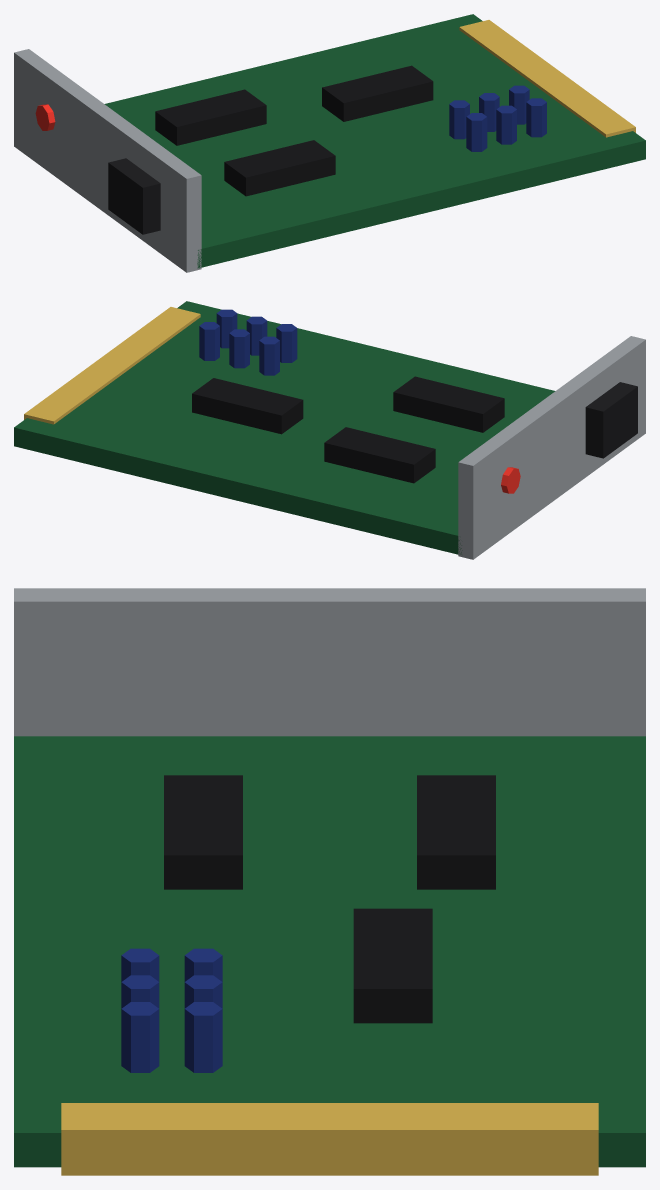
Rendered from kit.line-card.glb.
3 renders of one model, top to bottom at view 1: azimuth 30°, elevation 25°; view 2: azimuth 150°, elevation 25°; view 3: azimuth 270°, elevation 25°, orthographic. The views are drawn at different scales.
Visible parts, largest first — view 1: pcb, faceplate, edge, chip0, chip1, chip2, pull, cap0, cap1, cap2, cap3, cap5 (+2 smaller); view 2: pcb, faceplate, edge, chip1, chip0, chip2, pull, cap3, cap4, cap5, cap0, cap2 (+2 smaller); view 3: pcb, faceplate, edge, chip2, chip0, chip1, cap2, cap5, cap0, cap3, cap1, cap4.
Boxes of the visible parts, <box> form: pcb: <box>104,14,645,268</box>; faceplate: <box>14,49,201,272</box>; edge: <box>459,20,635,137</box>; chip0: <box>155,89,266,145</box>; chip1: <box>224,140,335,196</box>; chip2: <box>322,65,433,121</box>; pull: <box>108,158,160,234</box>; cap0: <box>466,113,487,151</box>; cap1: <box>496,105,516,144</box>; cap2: <box>526,98,546,137</box>; cap3: <box>449,100,469,139</box>; cap5: <box>509,85,529,124</box>; pcb: <box>14,301,555,554</box>; faceplate: <box>458,336,645,559</box>; edge: <box>24,307,200,424</box>; chip1: <box>393,376,504,432</box>; chip0: <box>324,427,435,483</box>; chip2: <box>192,378,303,434</box>; pull: <box>585,382,637,458</box>; cap3: <box>259,336,279,375</box>; cap4: <box>229,329,249,368</box>; cap5: <box>199,322,219,360</box>; cap0: <box>276,324,297,362</box>; cap2: <box>216,309,237,348</box>; pcb: <box>14,736,645,1167</box>; faceplate: <box>14,588,645,736</box>; edge: <box>61,1103,598,1175</box>; chip2: <box>353,908,432,1023</box>; chip0: <box>417,775,495,889</box>; chip1: <box>164,775,242,889</box>; cap2: <box>121,1002,159,1072</box>; cap5: <box>184,1002,222,1072</box>; cap0: <box>121,948,159,981</box>; cap3: <box>184,948,222,981</box>; cap1: <box>121,975,159,1008</box>; cap4: <box>184,975,222,1008</box>.
Bounding box in the file's own units: 0.321 × 0.061 × 0.2.
